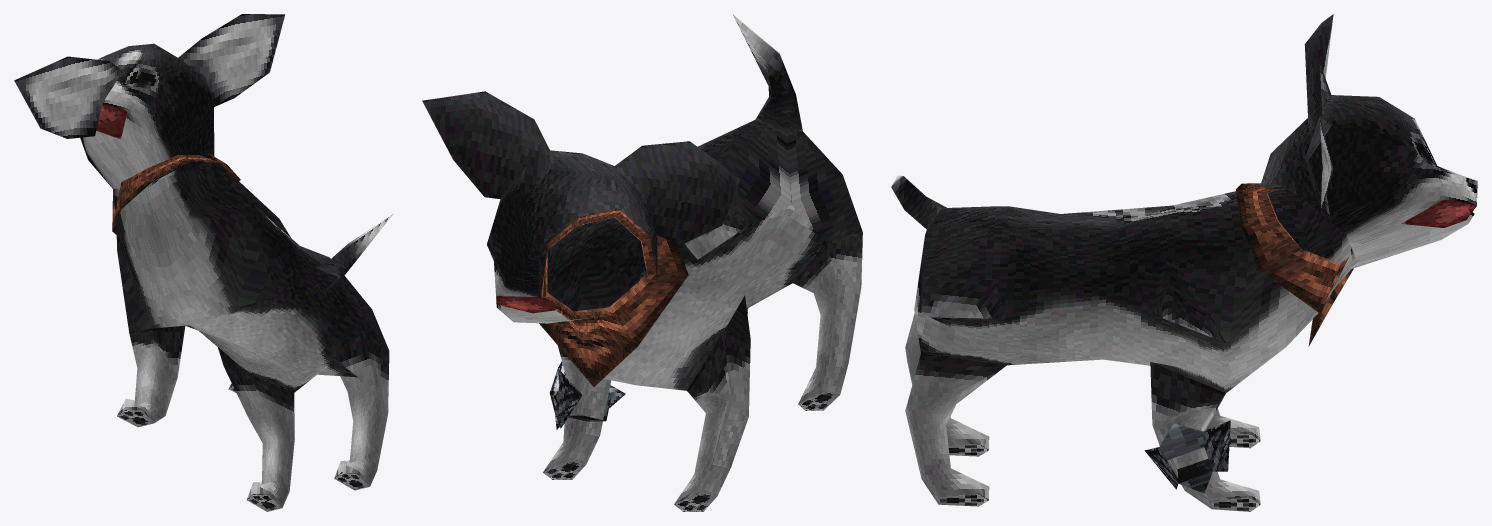
Rendered from ps2_save-icons_godhand.glb.
3 views of the same model, side by side, from view 1: azimuth 30°, elevation 25°; view 2: azimuth 150°, elevation 25°; view 3: azimuth 270°, elevation 25° (orthographic). The views are drawn at different scales.
Parts seen in each view (by area): view 1: godh0.ico; view 2: godh0.ico; view 3: godh0.ico.
Boxes of the visible parts, left/top/right/bottom form: godh0.ico: left=14, top=14, right=393, bottom=511; godh0.ico: left=422, top=14, right=862, bottom=511; godh0.ico: left=891, top=14, right=1477, bottom=511.
Size of the model in its own units: 2.56 by 3.11 by 4.1.
1 material, 1 textured.
